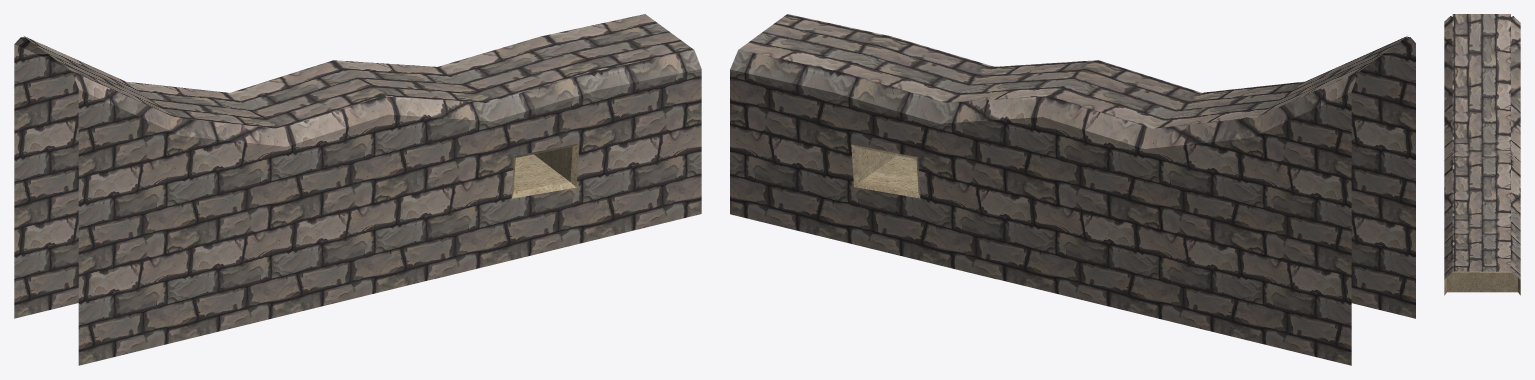
File: OuterWall.fbx
3 renders of one model, left to right at view 1: azimuth 30°, elevation 25°; view 2: azimuth 150°, elevation 25°; view 3: azimuth 270°, elevation 25°, orthographic. The views are drawn at different scales.
Parts seen in each view (by area): view 1: polySurface36; view 2: polySurface36; view 3: polySurface36.
Part boxes in pixels (x1=…): polySurface36: x1=14, y1=14, x2=701, y2=365; polySurface36: x1=730, y1=14, x2=1415, y2=365; polySurface36: x1=1444, y1=14, x2=1520, y2=295.
Bounding box in the file's own units: 11.18 × 4.96 × 2.
